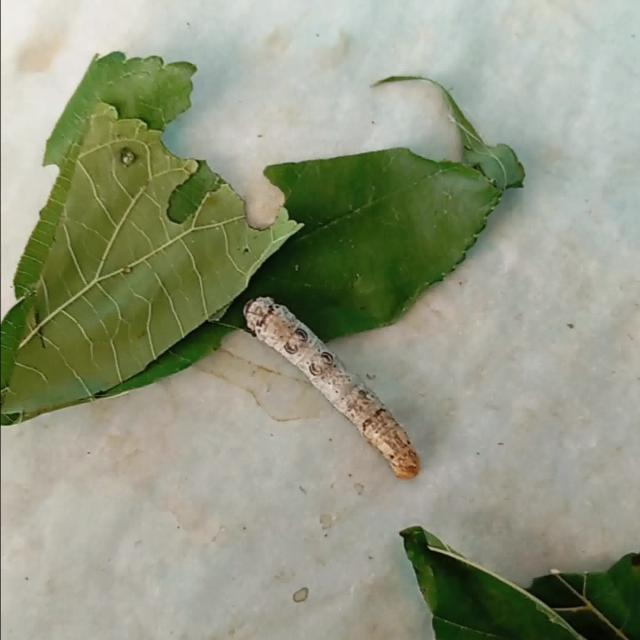Grasserie: (240, 273, 425, 499)
